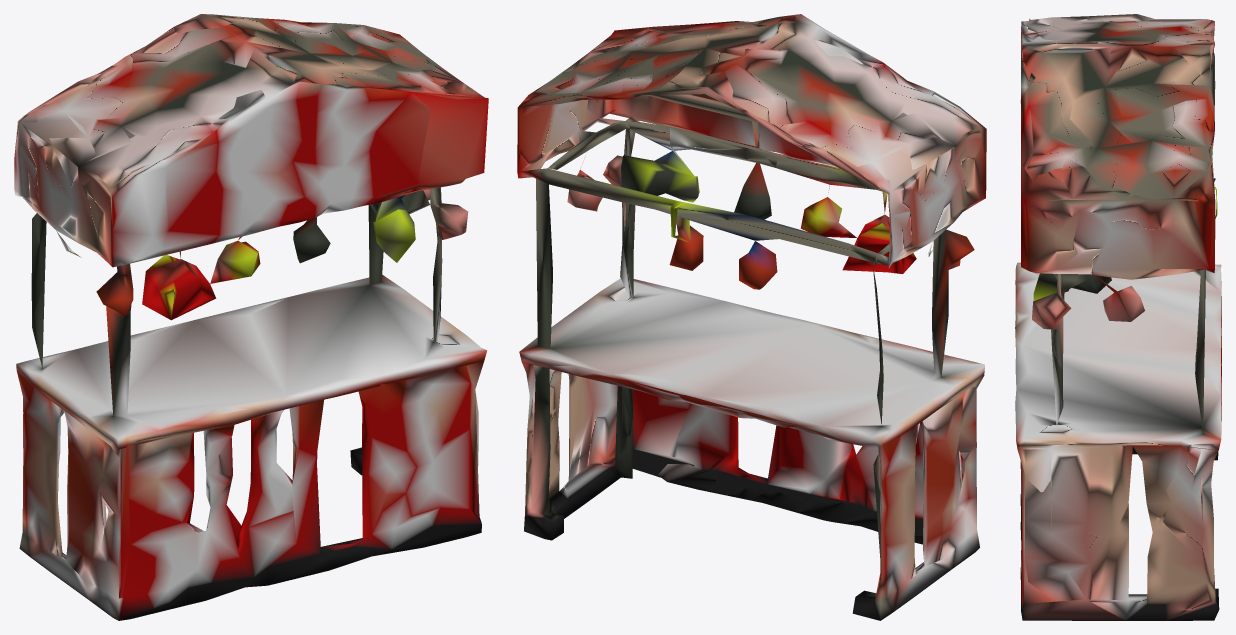
Rendered from gen3d-carnival-booth-lod0.glb.
3 views of the same model, side by side, from view 1: azimuth 30°, elevation 25°; view 2: azimuth 150°, elevation 25°; view 3: azimuth 270°, elevation 25° (orthographic).
Parts seen in each view (by area): view 1: part_0; view 2: part_0; view 3: part_0.
Boxes of the visible parts, x1,y1,x2,y2 form: part_0: [14, 14, 488, 620]; part_0: [517, 14, 986, 620]; part_0: [1015, 14, 1221, 620].
Bounding box in the file's own units: 0.797 × 0.9973 × 0.3822.
